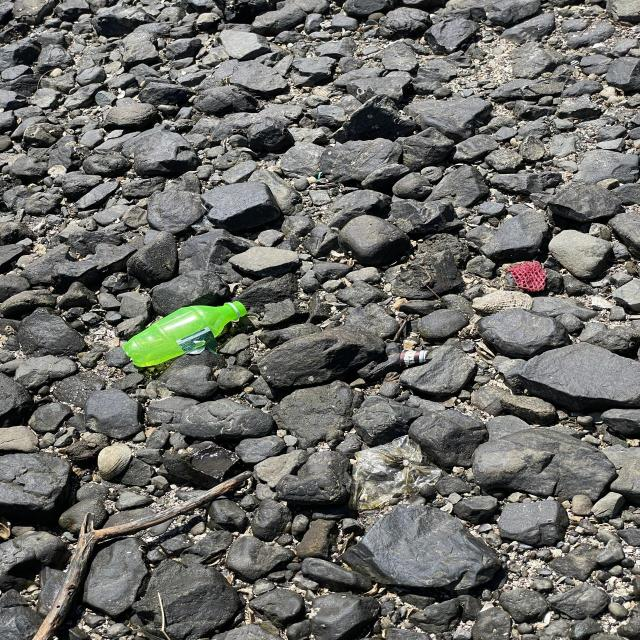plastic_waste: (124, 304, 251, 371)
